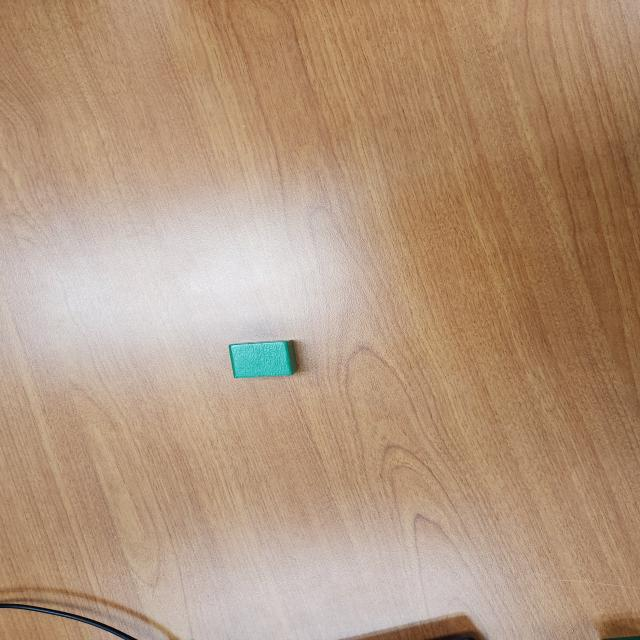green: (228, 339, 298, 378)
